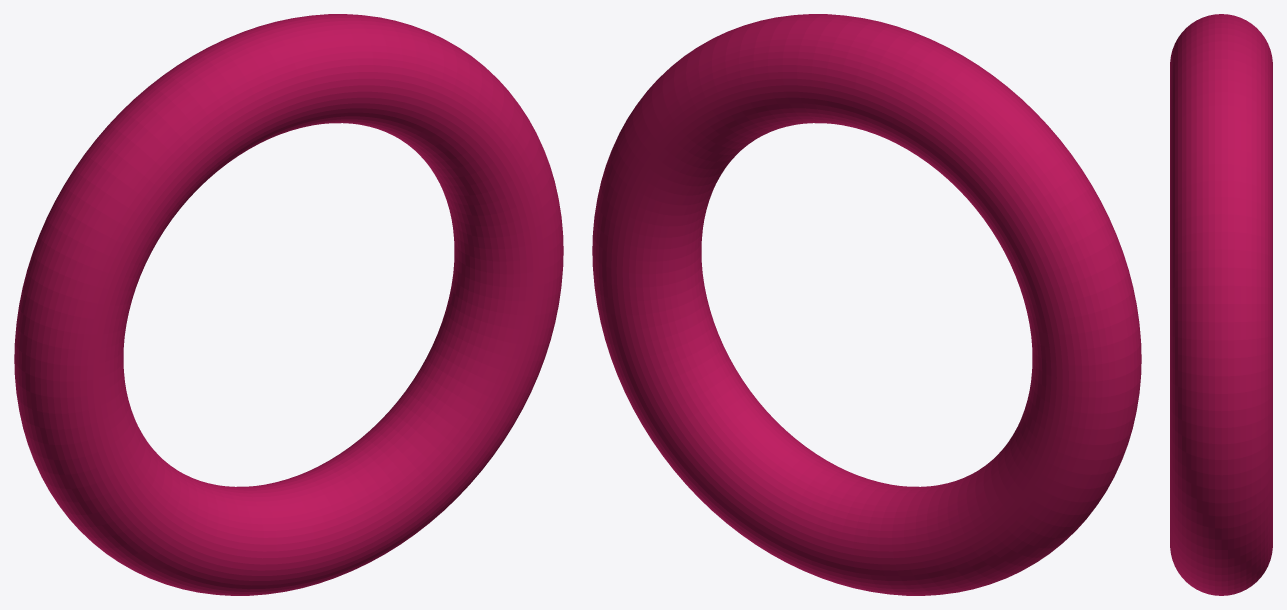
3 renders of one model, left to right at view 1: azimuth 30°, elevation 25°; view 2: azimuth 150°, elevation 25°; view 3: azimuth 270°, elevation 25°, orthographic. The views are drawn at different scales.
Visible parts, largest first — view 1: world; view 2: world; view 3: world.
Boxes of the visible parts, x1,y1,x2,y2 form: world: (14, 14, 563, 595); world: (592, 14, 1141, 595); world: (1170, 14, 1272, 595).
Bounding box in the file's own units: 21.87 × 21.87 × 3.86.
